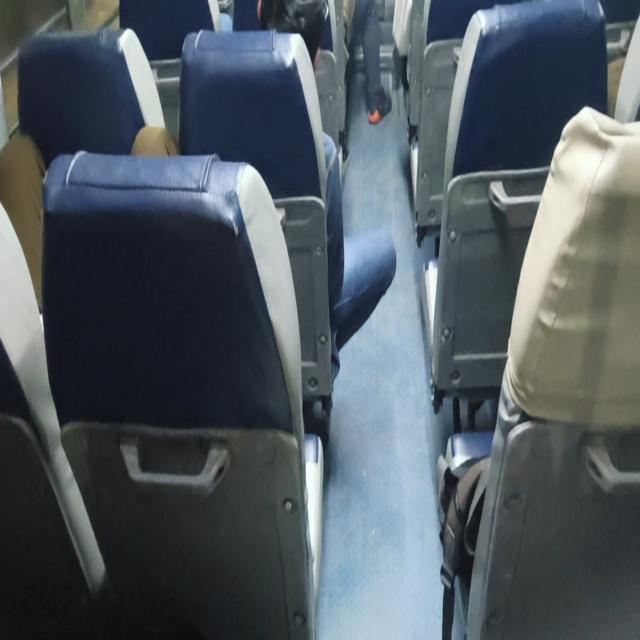person: (272, 0, 330, 74)
